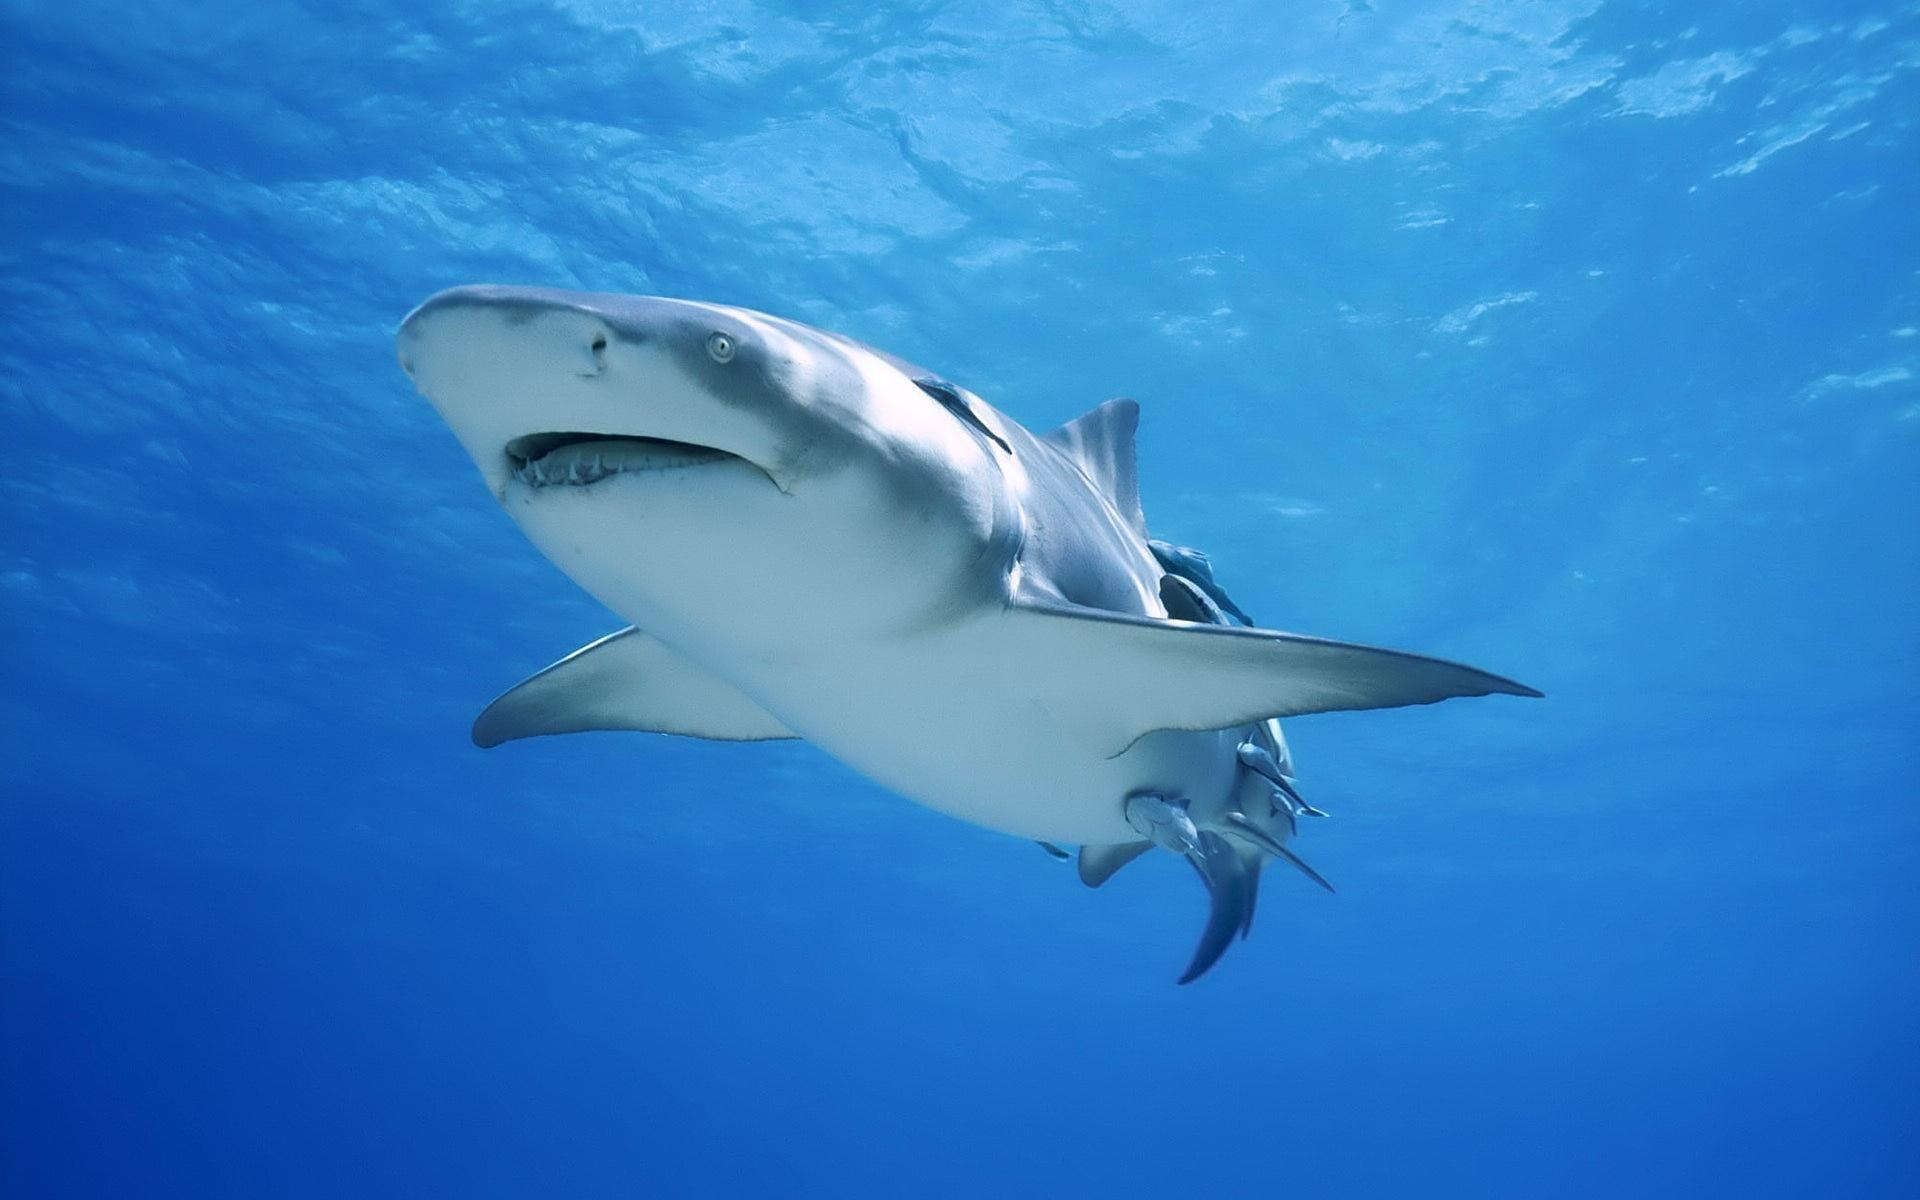fish: (380, 276, 1552, 993)
